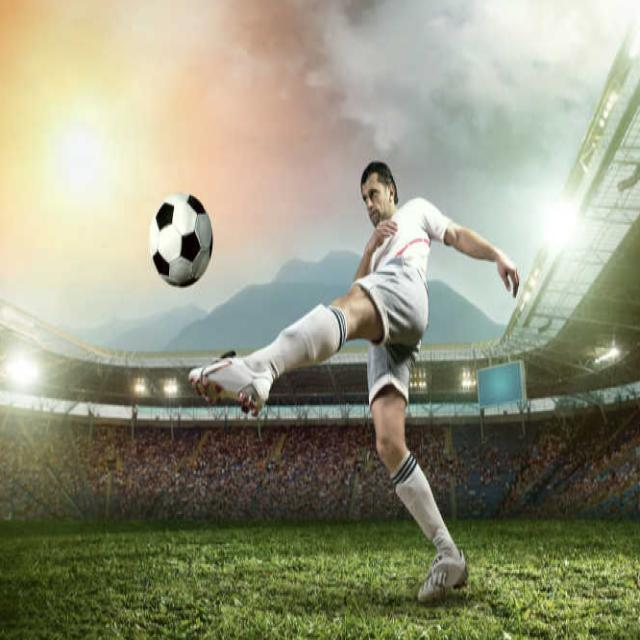football: (148, 159, 228, 299)
